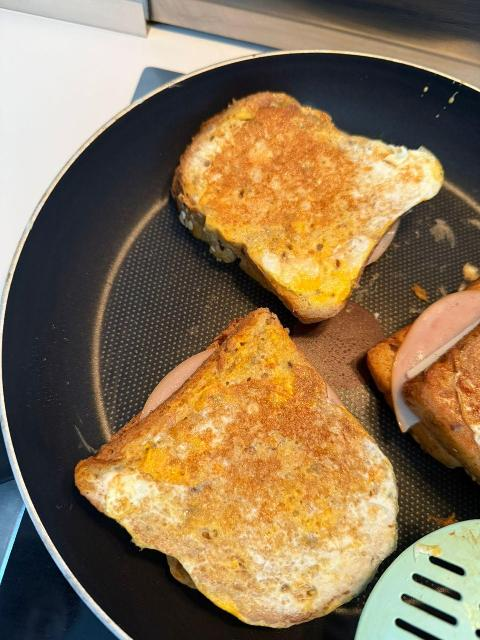Organik: (71, 304, 403, 620), (168, 91, 445, 319), (363, 267, 480, 495)
